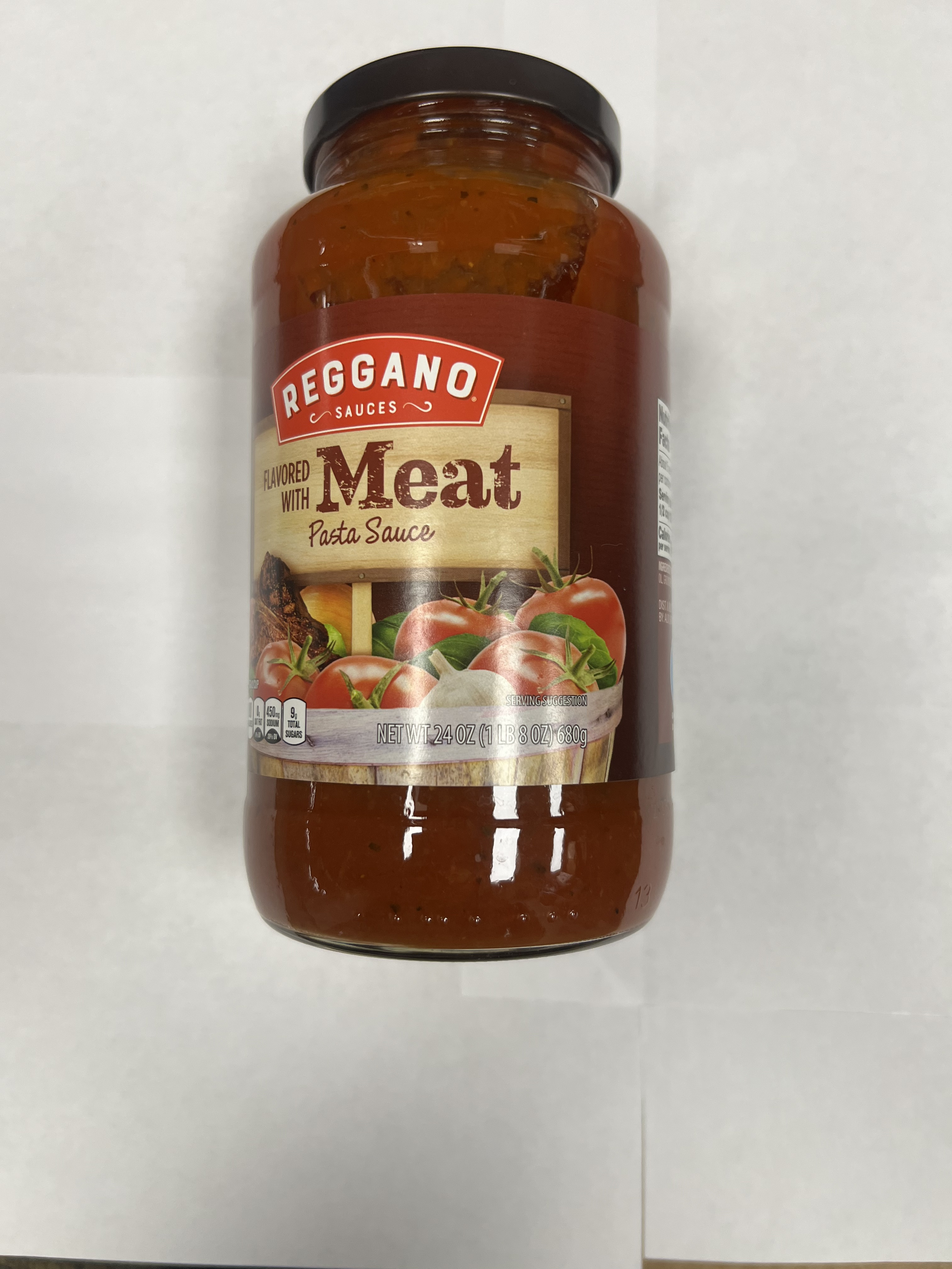packaged: (237, 36, 686, 971)
